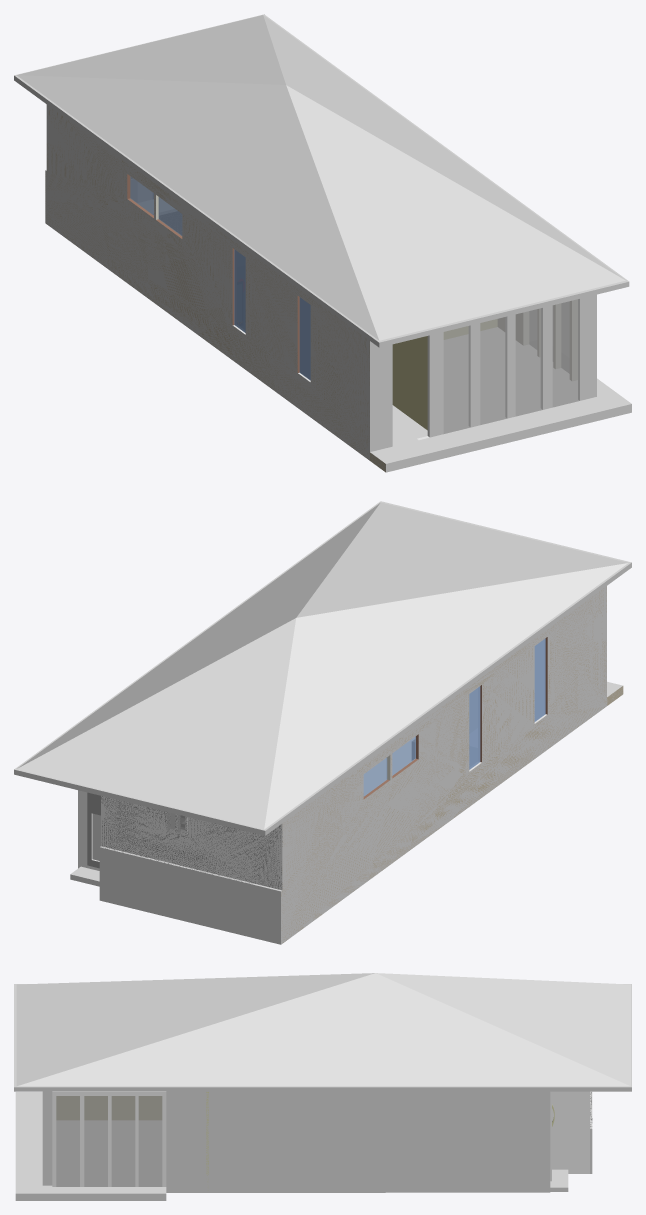
Rendered from indoor1.dae.
3 renders of one model, top to bottom at view 1: azimuth 30°, elevation 25°; view 2: azimuth 150°, elevation 25°; view 3: azimuth 270°, elevation 25°, orthographic. The views are drawn at different scales.
Visible parts, largest first — view 1: 锥体, SketchUp.181, SketchUp.247, SketchUp.275, SketchUp.065, 立方体, SketchUp.054, SketchUp.255, SketchUp.128, SketchUp.236, 立方体.004, SketchUp.224 (+2 smaller); view 2: 锥体, SketchUp.181, SketchUp.263, SketchUp.044, 立方体, SketchUp.079, SketchUp.224, SketchUp.275, SketchUp.022, SketchUp.026; view 3: 锥体, SketchUp.247, SketchUp.275, SketchUp.065, 立方体, SketchUp.022, SketchUp.130, SketchUp.183, SketchUp.104, 立方体.004, SketchUp.182, SketchUp.103 (+1 smaller).
Part boxes in pixels (x1,y1,x2,y2): 锥体: (16,15,625,340); SketchUp.181: (45,104,369,460); SketchUp.247: (370,294,596,451); SketchUp.275: (392,327,578,444); SketchUp.065: (370,378,631,472); 立方体: (14,14,629,347); SketchUp.054: (552,299,579,407); SketchUp.255: (515,308,542,416); SketchUp.128: (480,316,507,424); SketchUp.236: (443,325,470,433); 立方体.004: (392,336,427,430); SketchUp.224: (299,297,310,380); 锥体: (17,502,627,829); SketchUp.181: (281,586,606,944); SketchUp.263: (99,847,281,944); SketchUp.044: (101,796,282,890); 立方体: (14,501,631,835); SketchUp.079: (469,686,480,769); SketchUp.224: (534,638,545,721); SketchUp.275: (364,737,414,784); SketchUp.022: (78,790,99,870); SketchUp.026: (87,792,100,868); 锥体: (16,973,630,1086); SketchUp.247: (42,1091,550,1192); SketchUp.275: (56,1120,161,1184); SketchUp.065: (15,1092,166,1200); 立方体: (14,984,631,1091); SketchUp.022: (550,1091,589,1181); SketchUp.130: (52,1091,166,1186); SketchUp.183: (138,1096,162,1186); SketchUp.104: (111,1096,135,1186); 立方体.004: (56,1096,161,1119); SketchUp.182: (56,1096,79,1186); SketchUp.103: (84,1096,107,1186).
Size of the model in its own units: 10.49 by 26.16 by 8.08.
